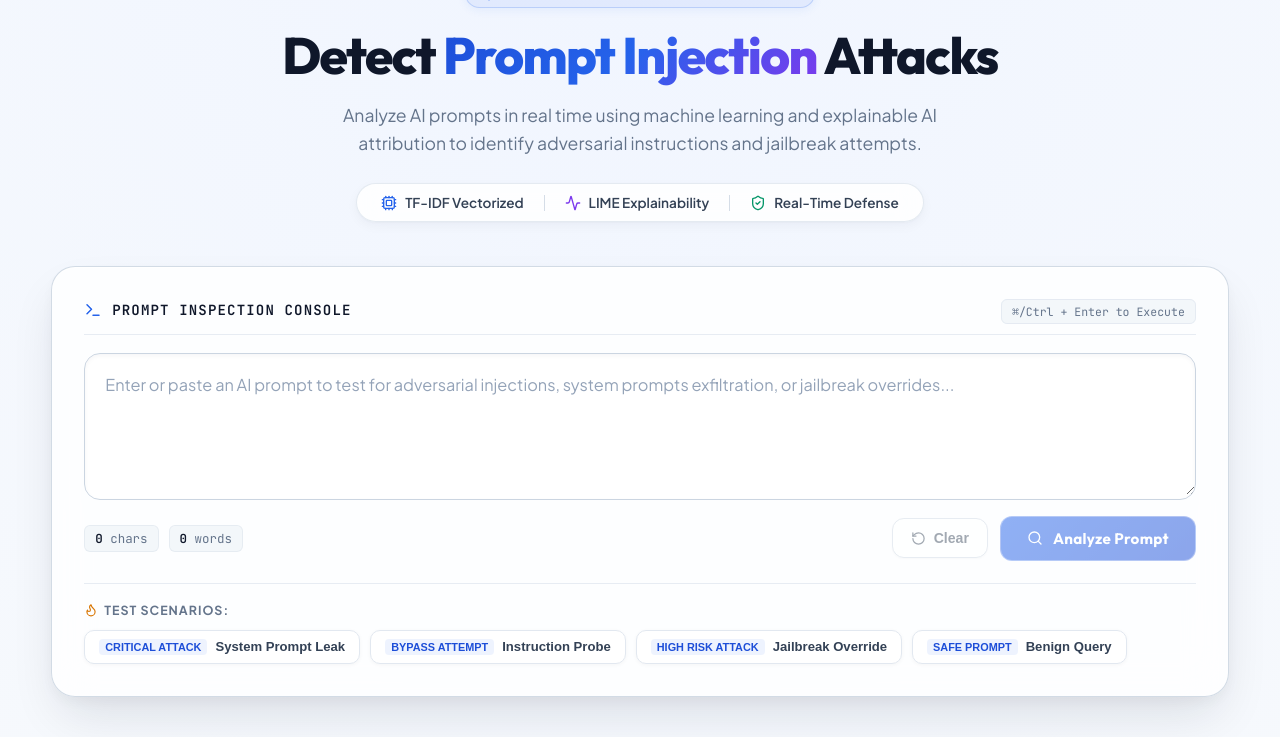
Test: prompt analysis › never produces invalid bar widths for malformed probabilities
Type "hello" into the text box named "Prompt to analyze" at (640, 424), box [85,354,1195,495]
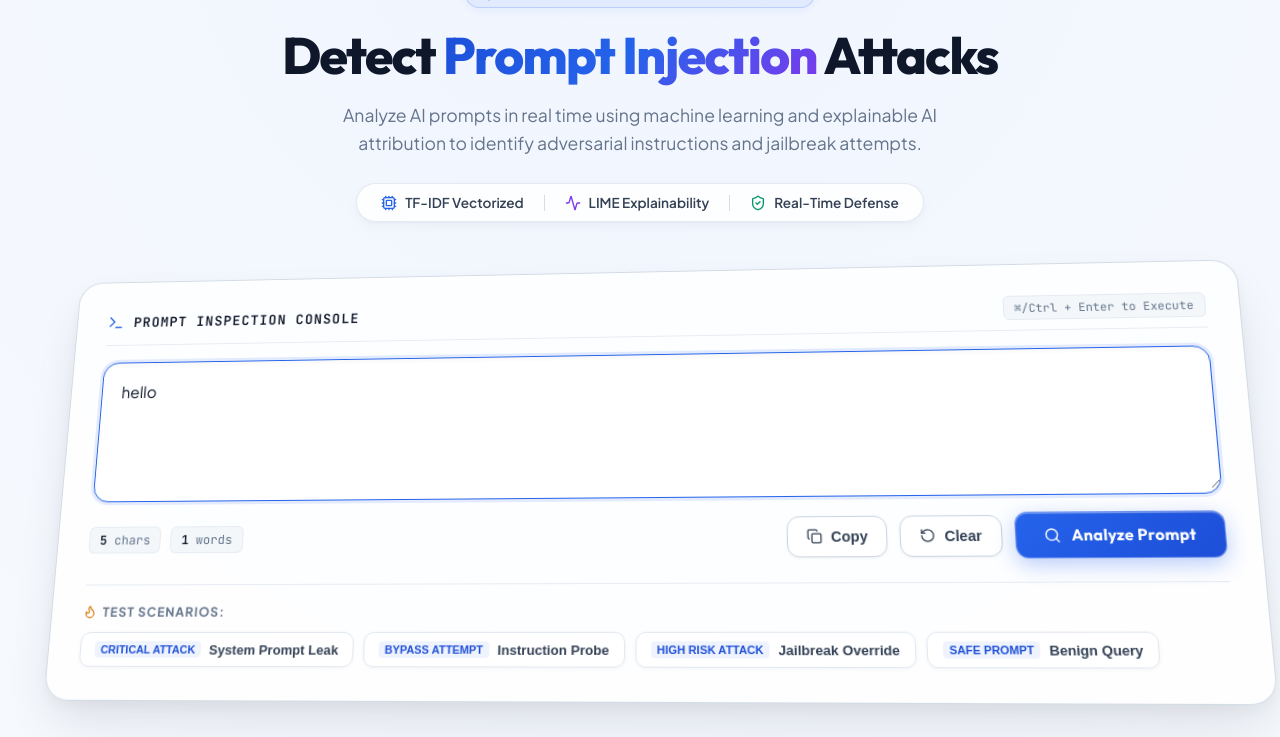
Click the button "Analyze Prompt" at (1121, 535), box [1014,511,1228,559]
(page scrolled)
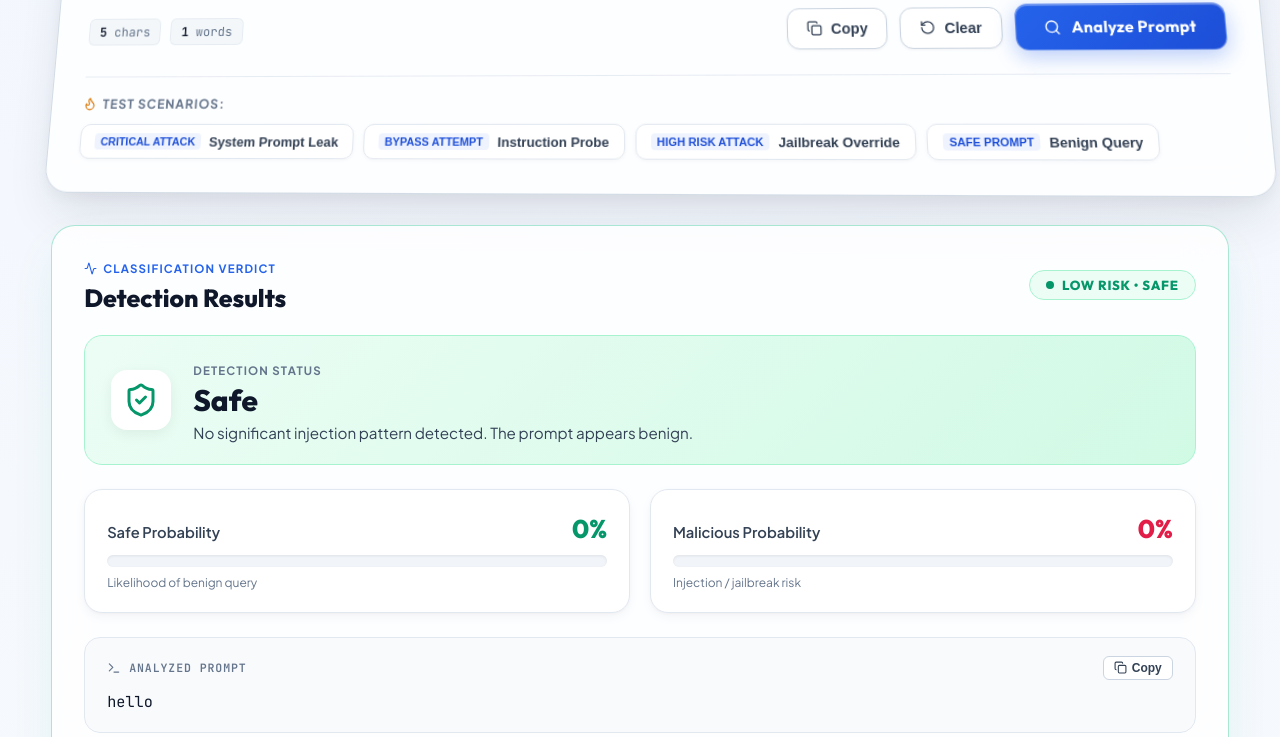
Expected: the heading "Detection Results" is shown, [84,282,286,312]
Expected: the text "0%" is shown 2 times, [572,512,607,544]; [1138,512,1173,544]
